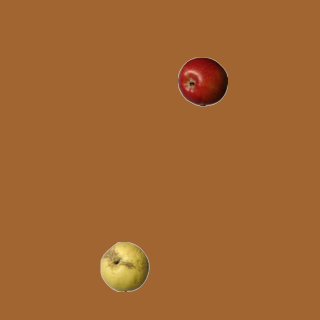Apple Braeburn: (177, 56, 227, 106)
Apple Golden 1: (99, 241, 149, 291)
